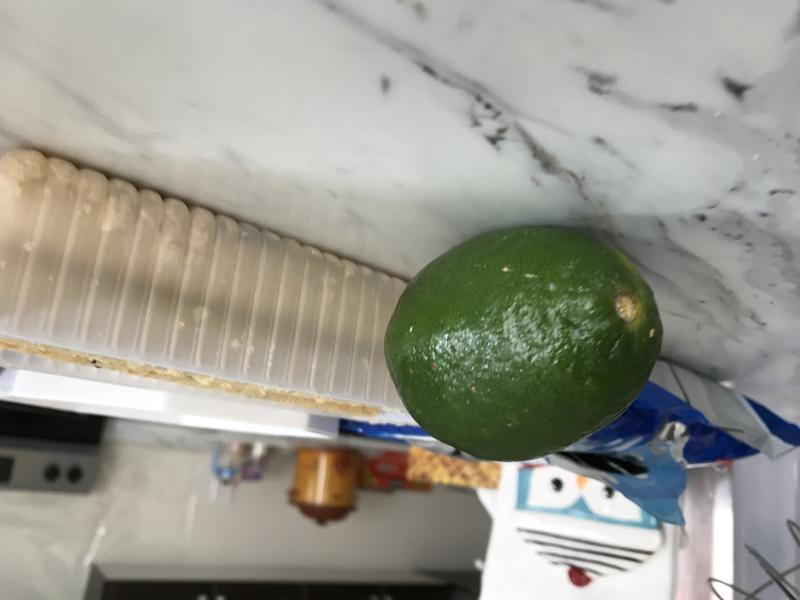lime: (375, 204, 679, 466)
